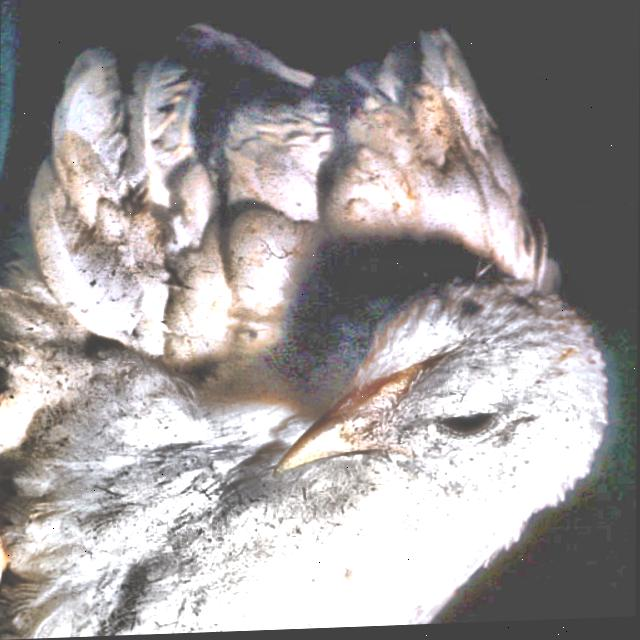Newcastle: (0, 48, 609, 640)
